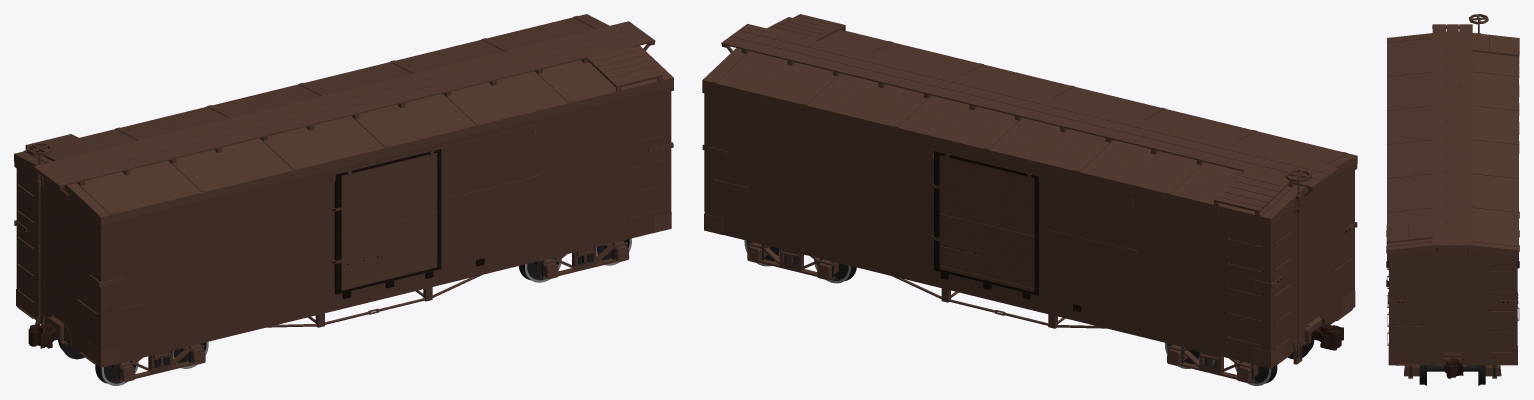
Rendered from drgw_3000class_boxcar.obj.
3 renders of one model, left to right at view 1: azimuth 30°, elevation 25°; view 2: azimuth 150°, elevation 25°; view 3: azimuth 270°, elevation 25°, orthographic. The views are drawn at different scales.
Parts seen in each view (by area): view 1: SHELL_Cube.018, ROOF_Cube.043, DOOR_LEFT_Cube.202, FRAME_Cube, BOGEY_REAR_Cube.279, BOGEY_FRONT_Cube.003, SHELL_BRACES_Cube.015, HANDBRAKE_Circle.092, BOGEY_FRONT_WHEEL_1_Cube.005; view 2: SHELL_Cube.018, ROOF_Cube.043, DOOR_RIGHT_Cube.072, FRAME_Cube, BOGEY_FRONT_Cube.003, BOGEY_REAR_Cube.279, SHELL_BRACES_Cube.015, HANDBRAKE_Circle.092; view 3: ROOF_Cube.043, SHELL_Cube.018, FRAME_Cube, SHELL_BRACES_Cube.015, BOGEY_REAR_WHEEL_2_Cube.284, BOGEY_REAR_Cube.279, HANDBRAKE_Circle.092.
Boxes of the visible parts, x1=… form: SHELL_Cube.018: x1=14, y1=86, x2=673, y2=364; ROOF_Cube.043: x1=14, y1=14, x2=673, y2=225; DOOR_LEFT_Cube.202: x1=334, y1=149, x2=441, y2=294; FRAME_Cube: x1=29, y1=228, x2=652, y2=362; BOGEY_REAR_Cube.279: x1=537, y1=240, x2=629, y2=279; BOGEY_FRONT_Cube.003: x1=113, y1=343, x2=205, y2=382; SHELL_BRACES_Cube.015: x1=16, y1=212, x2=671, y2=367; HANDBRAKE_Circle.092: x1=27, y1=142, x2=51, y2=324; BOGEY_FRONT_WHEEL_1_Cube.005: x1=58, y1=339, x2=138, y2=385; SHELL_Cube.018: x1=702, y1=88, x2=1357, y2=365; ROOF_Cube.043: x1=702, y1=14, x2=1357, y2=226; DOOR_RIGHT_Cube.072: x1=933, y1=151, x2=1038, y2=295; FRAME_Cube: x1=722, y1=230, x2=1341, y2=364; BOGEY_FRONT_Cube.003: x1=1167, y1=344, x2=1258, y2=383; BOGEY_REAR_Cube.279: x1=747, y1=241, x2=838, y2=280; SHELL_BRACES_Cube.015: x1=704, y1=213, x2=1355, y2=368; HANDBRAKE_Circle.092: x1=1285, y1=169, x2=1311, y2=363; ROOF_Cube.043: x1=1386, y1=24, x2=1519, y2=256; SHELL_Cube.018: x1=1387, y1=33, x2=1519, y2=378; FRAME_Cube: x1=1409, y1=352, x2=1497, y2=366; SHELL_BRACES_Cube.015: x1=1388, y1=346, x2=1517, y2=365; BOGEY_REAR_WHEEL_2_Cube.284: x1=1419, y1=365, x2=1485, y2=385; BOGEY_REAR_Cube.279: x1=1404, y1=365, x2=1501, y2=378; HANDBRAKE_Circle.092: x1=1469, y1=14, x2=1488, y2=33.
Size of the model in its own units: 27.39 by 9.24 by 6.64.
